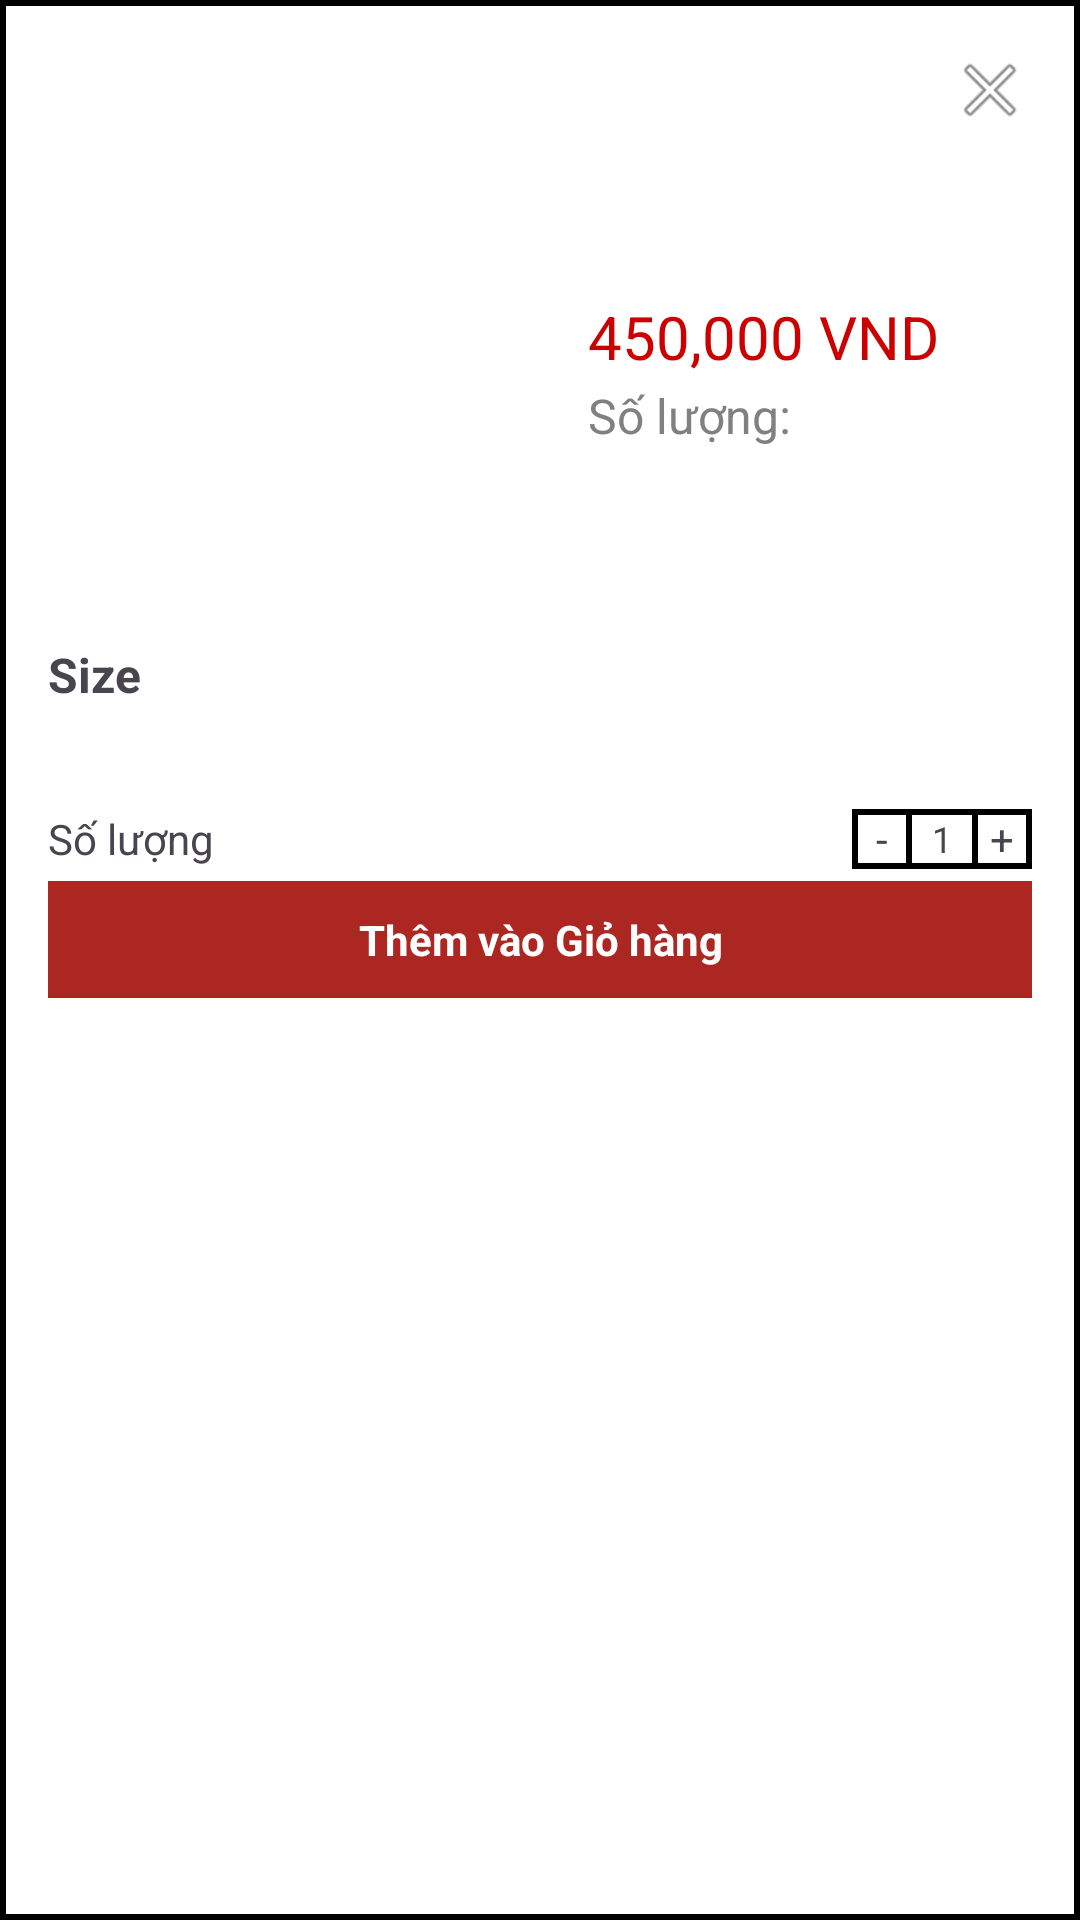

Icon bounding boxes for this 1080px x 1920px phone screenshot, format [x1, y1, x2, y2]:
close clear cancel: [964, 64, 1016, 116]
